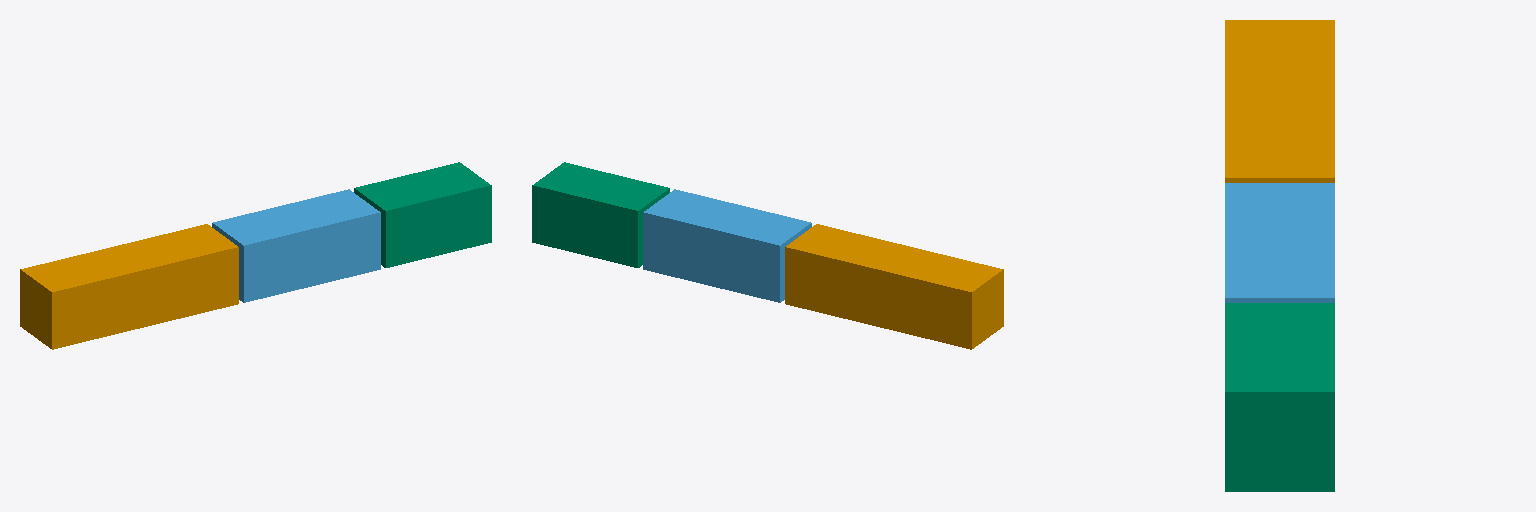
The robot description file, URDF, robot "3link_estimated":
<?xml version="1.0" ?>
<robot name="3link_estimated">
  <!--
     부위별 밀도를 로봇 측정으로 추정해 생성한 sim-ready 자산.
     가정: 각 부위 내부 밀도 균일, 측정 중 관절 고정.
     추정 밀도 [kg/m^3] (95% 구간):
       link0_base: 5199.4 +/- 3.5
       link1_elbow: 1292.5 +/- 5.5
       link2_tip: 641.0 +/- 3.3
  -->
  <link name="link0_base">
    <visual>
      <origin xyz="0.075000 0.000000 0.000000"/>
      <geometry>
        <box size="0.150000 0.044000 0.044000"/>
      </geometry>
    </visual>
    <collision>
      <origin xyz="0.075000 0.000000 0.000000"/>
      <geometry>
        <box size="0.150000 0.044000 0.044000"/>
      </geometry>
    </collision>
    <inertial>
      <origin xyz="0.075000 0.000000 0.000000"/>
      <mass value="1.498054"/>
      <inertia ixx="0.000483372" ixy="0.000000000" ixz="0.000000000" iyy="0.003050537" iyz="0.000000000" izz="0.003050537"/>
    </inertial>
  </link>
  <link name="link1_elbow">
    <visual>
      <origin xyz="0.057000 -0.027000 0.000000"/>
      <geometry>
        <box size="0.110000 0.044000 0.044000"/>
      </geometry>
    </visual>
    <collision>
      <origin xyz="0.057000 -0.027000 0.000000"/>
      <geometry>
        <box size="0.110000 0.044000 0.044000"/>
      </geometry>
    </collision>
    <inertial>
      <origin xyz="0.057000 -0.027000 0.000000"/>
      <mass value="0.269366"/>
      <inertia ixx="0.000086915" ixy="0.000000000" ixz="0.000000000" iyy="0.000315068" iyz="0.000000000" izz="0.000315068"/>
    </inertial>
  </link>
  <link name="link2_tip">
    <visual>
      <origin xyz="0.044500 0.000000 -0.027000"/>
      <geometry>
        <box size="0.085000 0.044000 0.044000"/>
      </geometry>
    </visual>
    <collision>
      <origin xyz="0.044500 0.000000 -0.027000"/>
      <geometry>
        <box size="0.085000 0.044000 0.044000"/>
      </geometry>
    </collision>
    <inertial>
      <origin xyz="0.044500 0.000000 -0.027000"/>
      <mass value="0.104015"/>
      <inertia ixx="0.000033562" ixy="0.000000000" ixz="0.000000000" iyy="0.000079407" iyz="0.000000000" izz="0.000079407"/>
    </inertial>
  </link>
  <joint name="joint1" type="revolute">
    <parent link="link0_base"/>
    <child link="link1_elbow"/>
    <origin xyz="0.152000 0.027000 0.000000"/>
    <axis xyz="0.0 0.0 1.0"/>
    <limit lower="0.000000" upper="2.967100" effort="10" velocity="1"/>
  </joint>
  <joint name="joint2" type="revolute">
    <parent link="link1_elbow"/>
    <child link="link2_tip"/>
    <origin xyz="0.114000 -0.027000 0.027000"/>
    <axis xyz="0.0 -1.0 0.0"/>
    <limit lower="0.000000" upper="2.967100" effort="10" velocity="1"/>
  </joint>
</robot>

--- What the picture shows (computed from the rendered views, not written in the file) ---
3 views of the same robot in one strip: view 1: azimuth 30°, elevation 25°; view 2: azimuth 150°, elevation 25°; view 3: azimuth 270°, elevation 25° (orthographic).
Model 3link_estimated with 3 links and 2 joints (2 revolute), rooted at link0_base, posed every joint at zero.
Links seen in each view (by area): view 1: link0_base, link1_elbow, link2_tip; view 2: link0_base, link1_elbow, link2_tip; view 3: link2_tip, link0_base, link1_elbow.
Boxes of the visible links, box(x1,y1,x2,y2) form: link0_base: box(20, 224, 238, 349); link1_elbow: box(212, 189, 380, 302); link2_tip: box(354, 162, 491, 267); link0_base: box(785, 224, 1003, 349); link1_elbow: box(643, 189, 811, 302); link2_tip: box(532, 162, 669, 267); link2_tip: box(1225, 303, 1334, 491); link0_base: box(1225, 20, 1334, 182); link1_elbow: box(1225, 183, 1334, 302).
Size in the robot's own frame: 0.353 by 0.044 by 0.044 metres.
Geometry: primitives only (box / cylinder / sphere), no mesh files.
